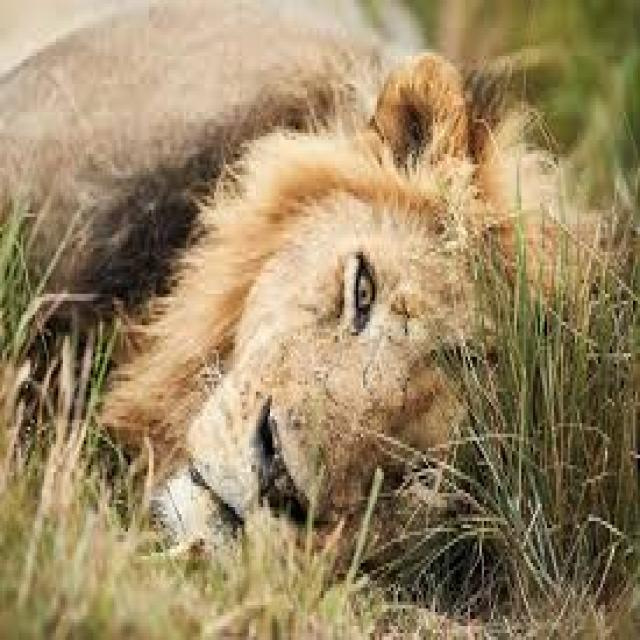Lion: (105, 48, 591, 567)
